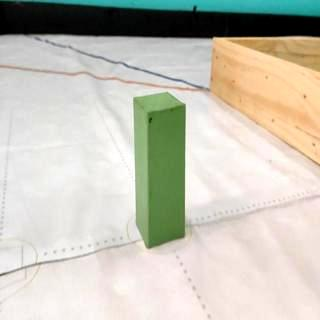greenbox: (132, 89, 188, 249)
